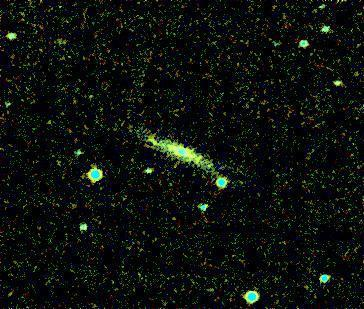star: (140, 129, 170, 159)
